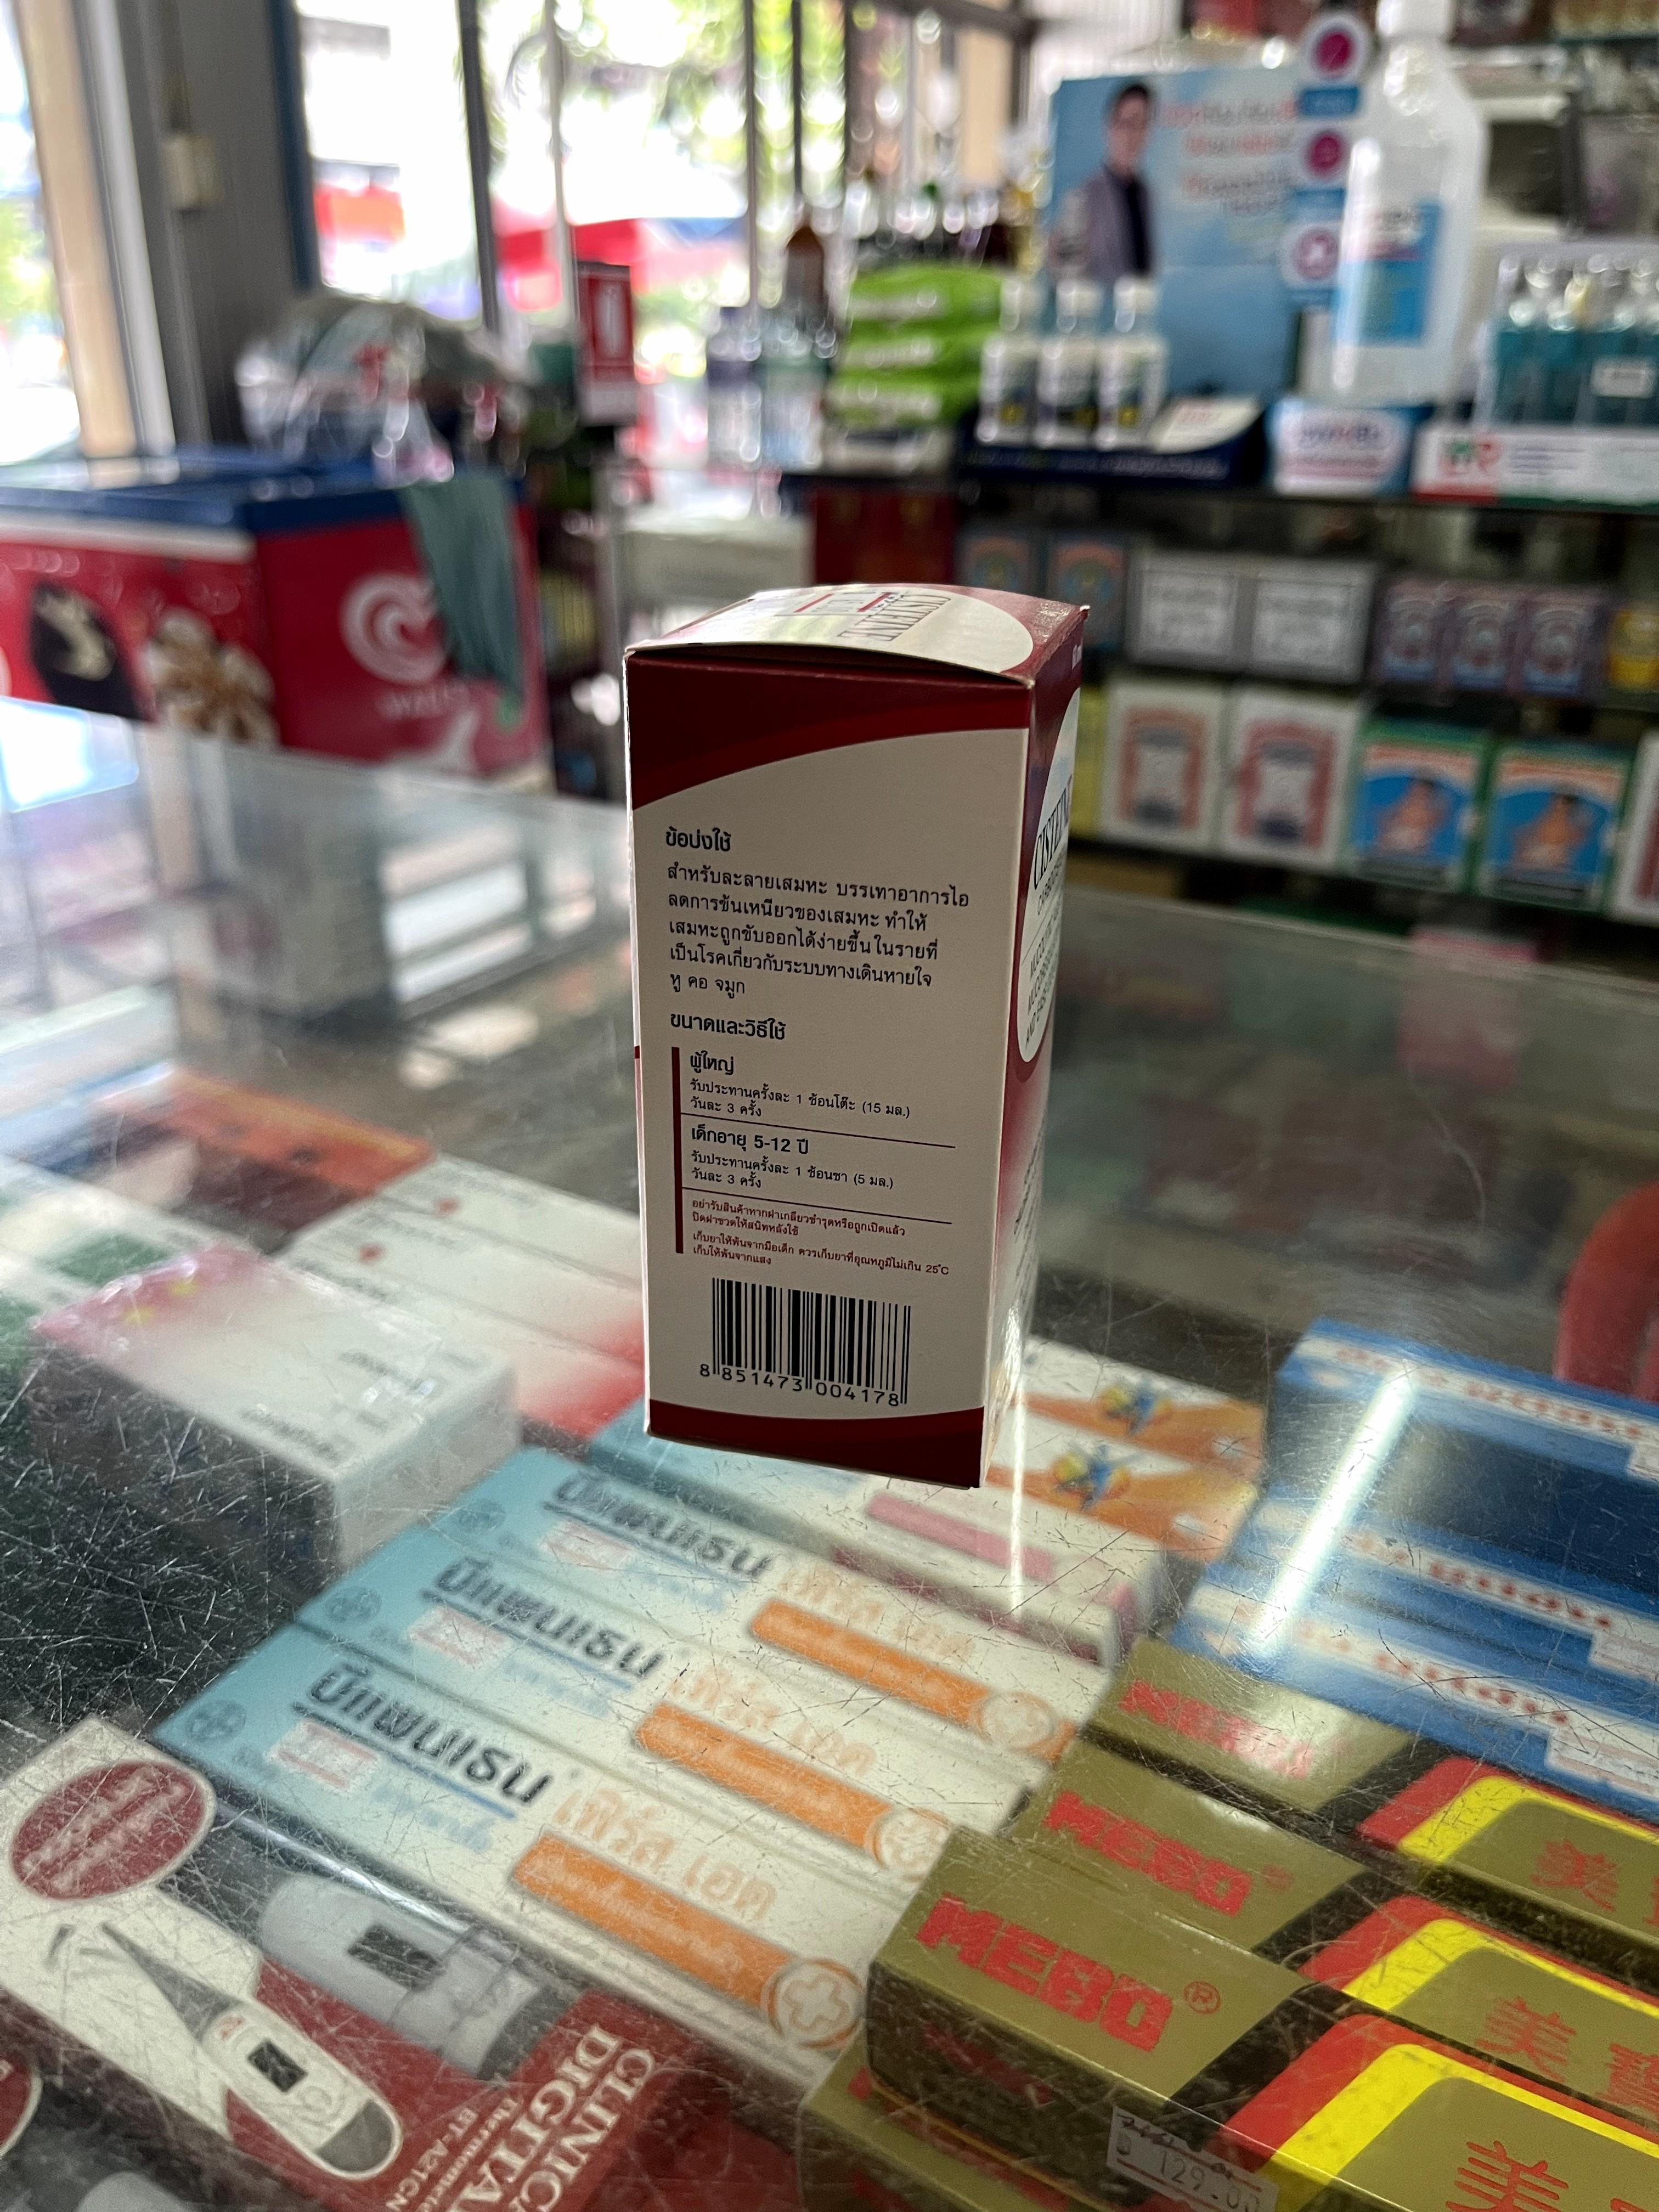Cisteine: (631, 582, 1094, 1479)
